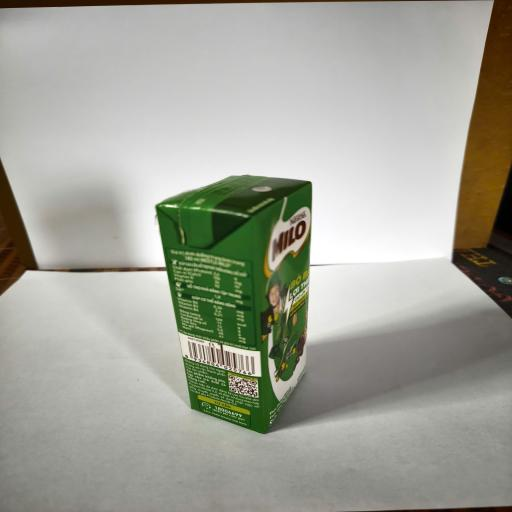milo: (155, 175, 312, 434)
